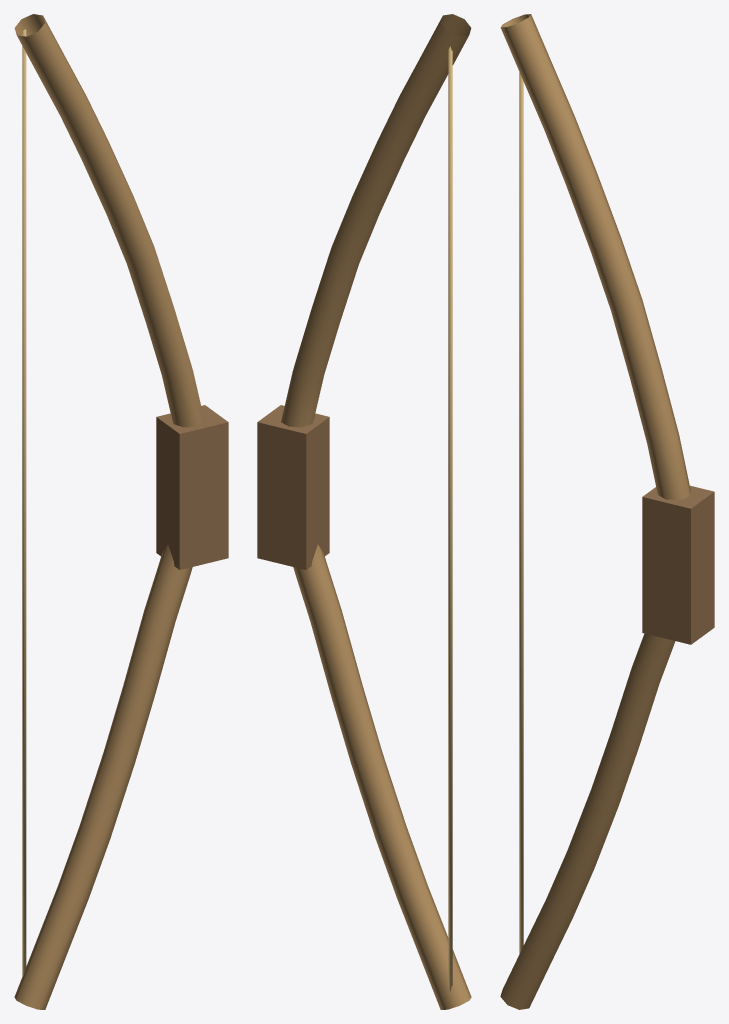
The model's file is bow.glb.
3 views of the same model, side by side, from view 1: azimuth 30°, elevation 25°; view 2: azimuth 150°, elevation 25°; view 3: azimuth 330°, elevation 25° (orthographic).
Visible parts, largest first — view 1: bow_stave, bow_grip, bow_string; view 2: bow_stave, bow_grip, bow_string; view 3: bow_stave, bow_grip, bow_string.
Boxes of the visible parts, <box> form: bow_stave: <box>14,14,204,1009</box>; bow_grip: <box>156,405,228,569</box>; bow_string: <box>22,28,26,976</box>; bow_stave: <box>281,14,471,1009</box>; bow_grip: <box>257,405,329,569</box>; bow_string: <box>448,46,452,991</box>; bow_stave: <box>500,14,690,1009</box>; bow_grip: <box>642,485,714,644</box>; bow_string: <box>519,72,523,953</box>.
Bounding box in the file's own units: 0.2465 × 1.17 × 0.05.
